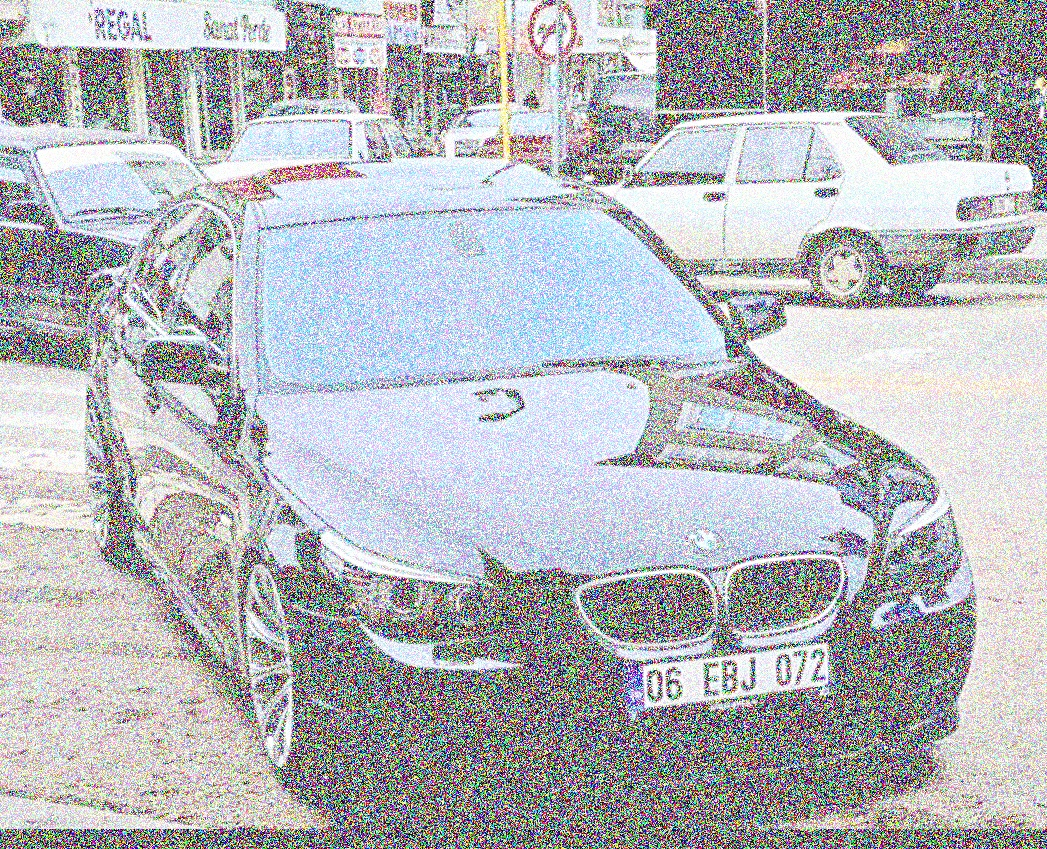plaka: (635, 638, 851, 710)
